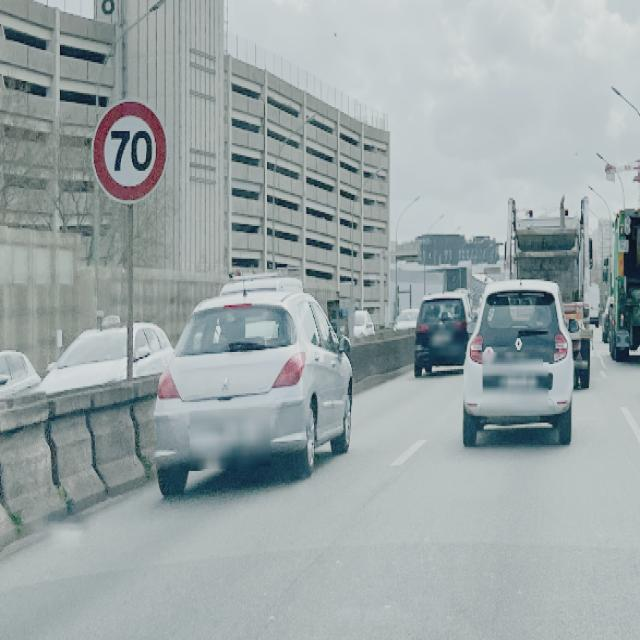speed_70: (94, 100, 168, 204)
